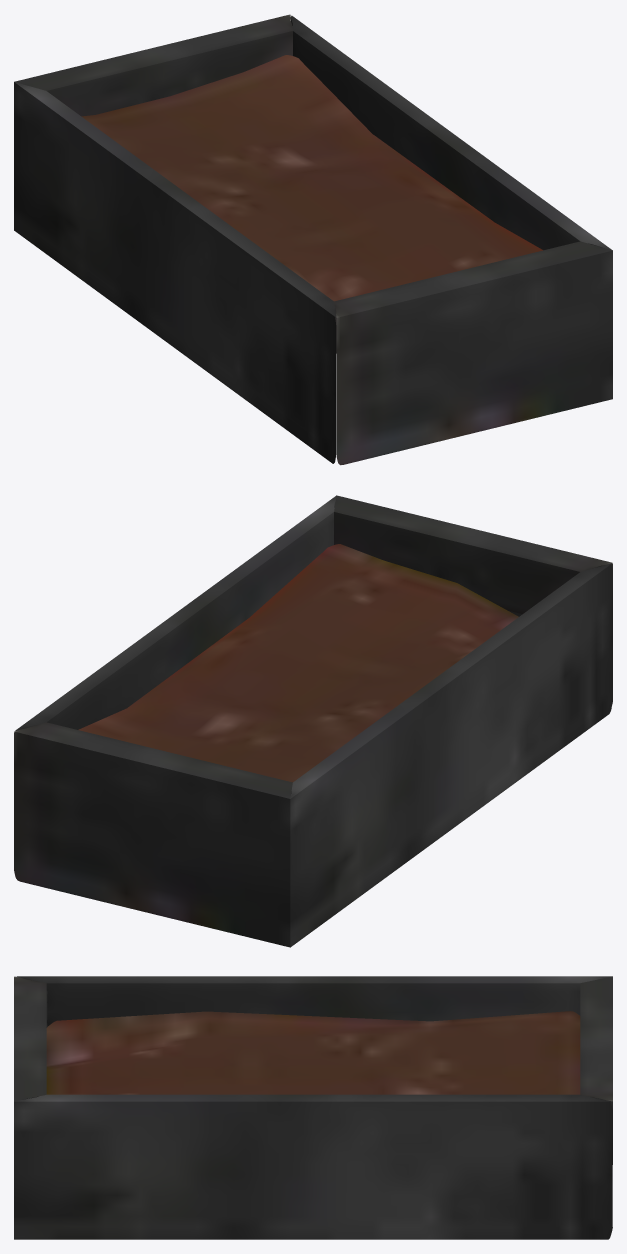
Rendered from planter-trough--2.gltf.
The picture shows the model from 3 angles, top to bottom: view 1: azimuth 30°, elevation 25°; view 2: azimuth 150°, elevation 25°; view 3: azimuth 270°, elevation 25°; orthographic projection. The views are drawn at different scales.
Visible parts, largest first — view 1: Small_square; view 2: Small_square; view 3: Small_square.
Boxes of the visible parts, x1,y1,x2,y2 form: Small_square: (14,14,612,465); Small_square: (14,495,612,947); Small_square: (14,976,612,1239).
Bounding box in the file's own units: 0.3821 × 0.1964 × 0.7725.
Materials: 1 (1 with a texture image).
